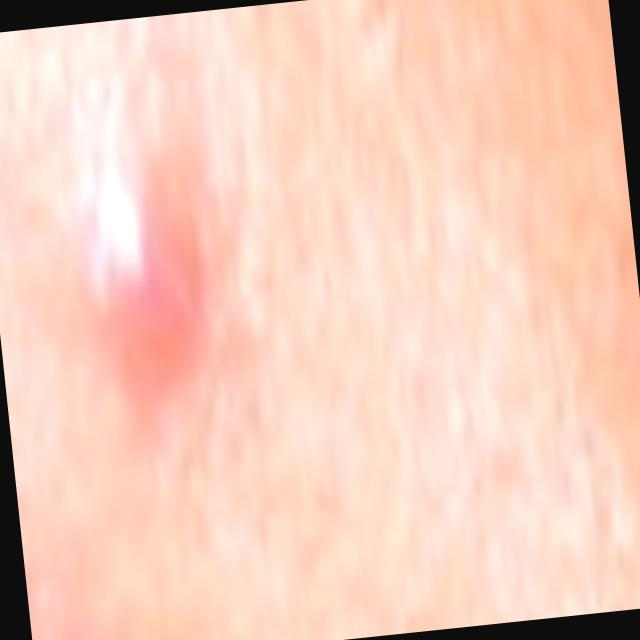nodule: (78, 168, 213, 407)
